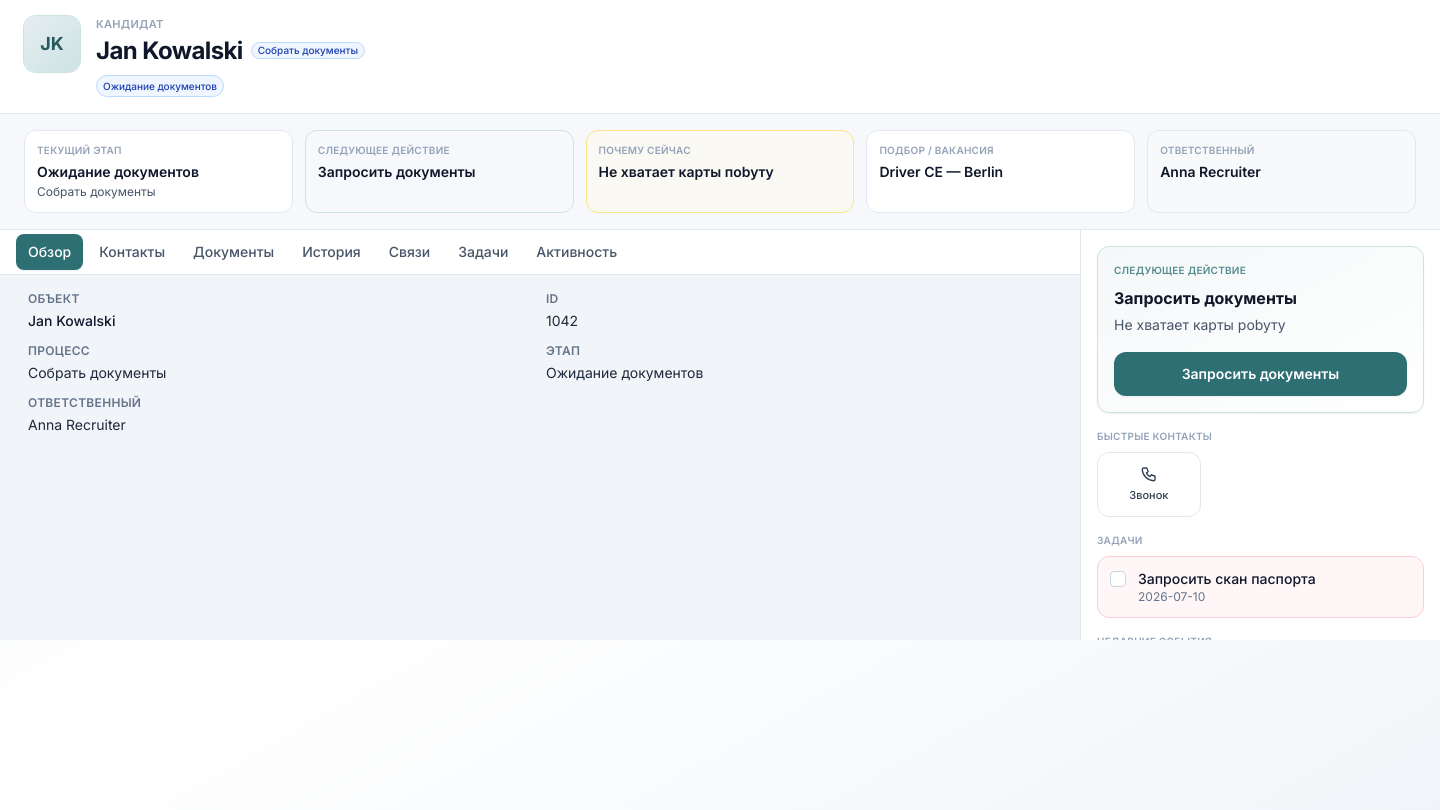
Test: EntityWorkspaceShell › navigation switches content section without layout change
Step 1. Click the button "Контакты" → x=132, y=252, box [87,234,177,270]
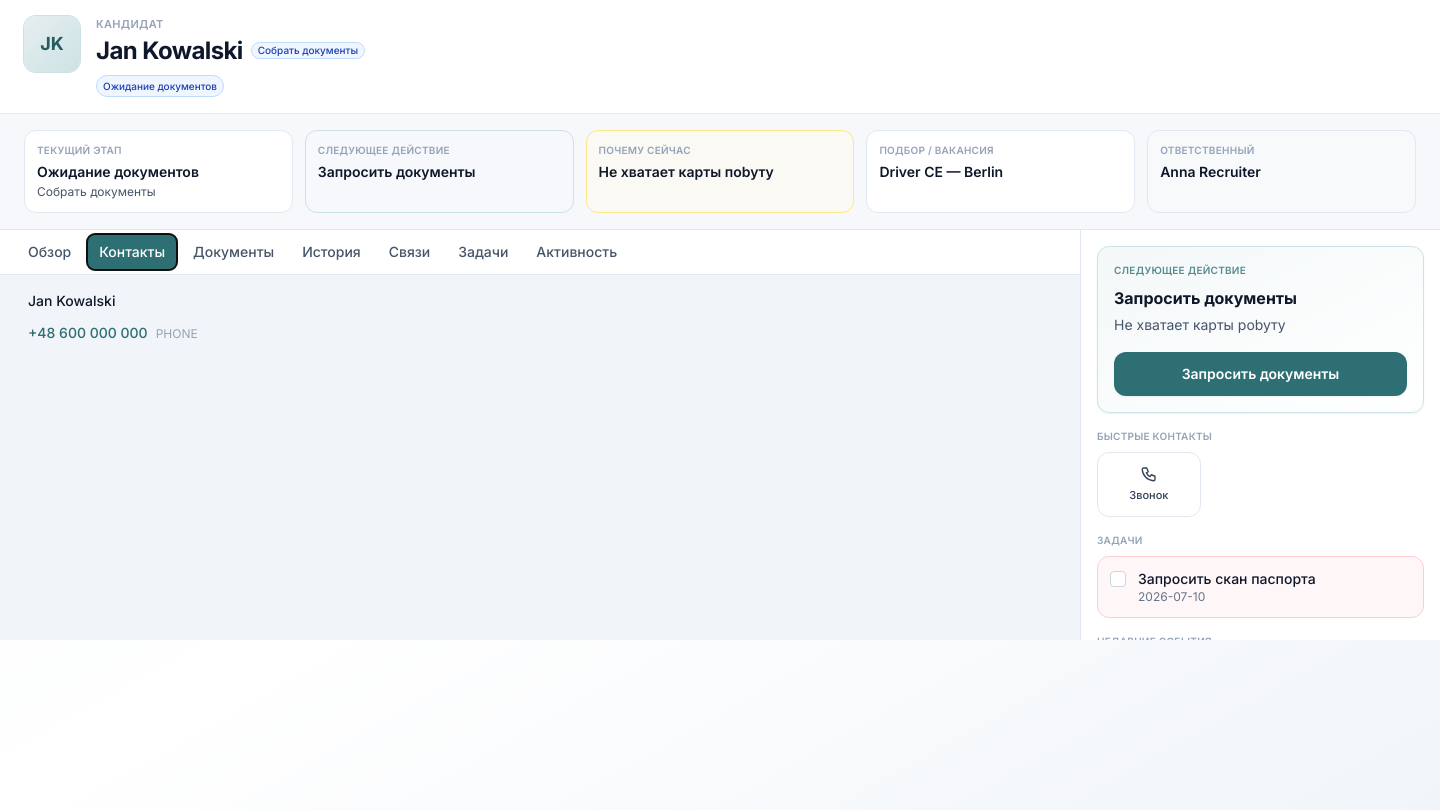
Now the link "+48 600 000 000" is shown, box [28,324,148,340]
